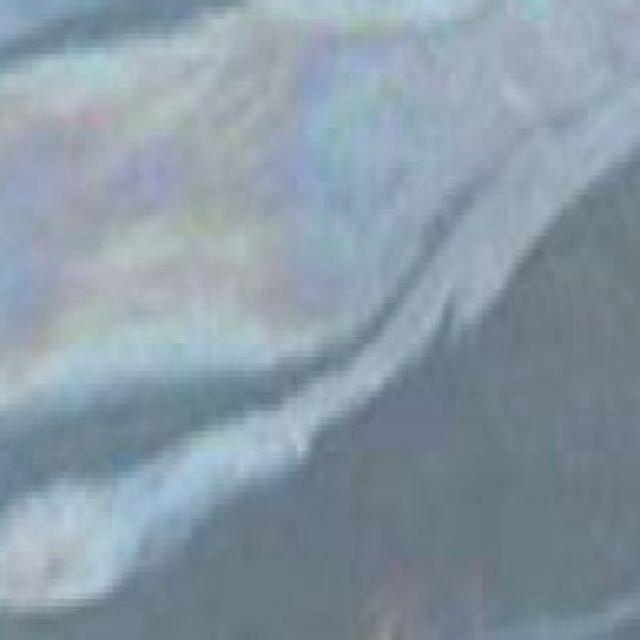oil: (1, 0, 640, 363), (1, 378, 382, 612)
